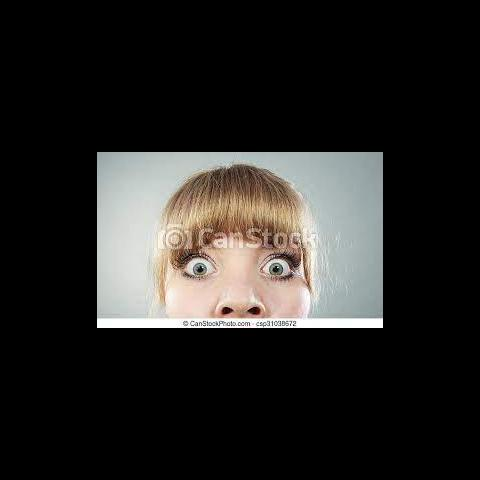opened: (170, 237, 306, 290)
